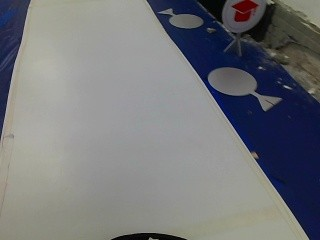school: (217, 0, 266, 31)
